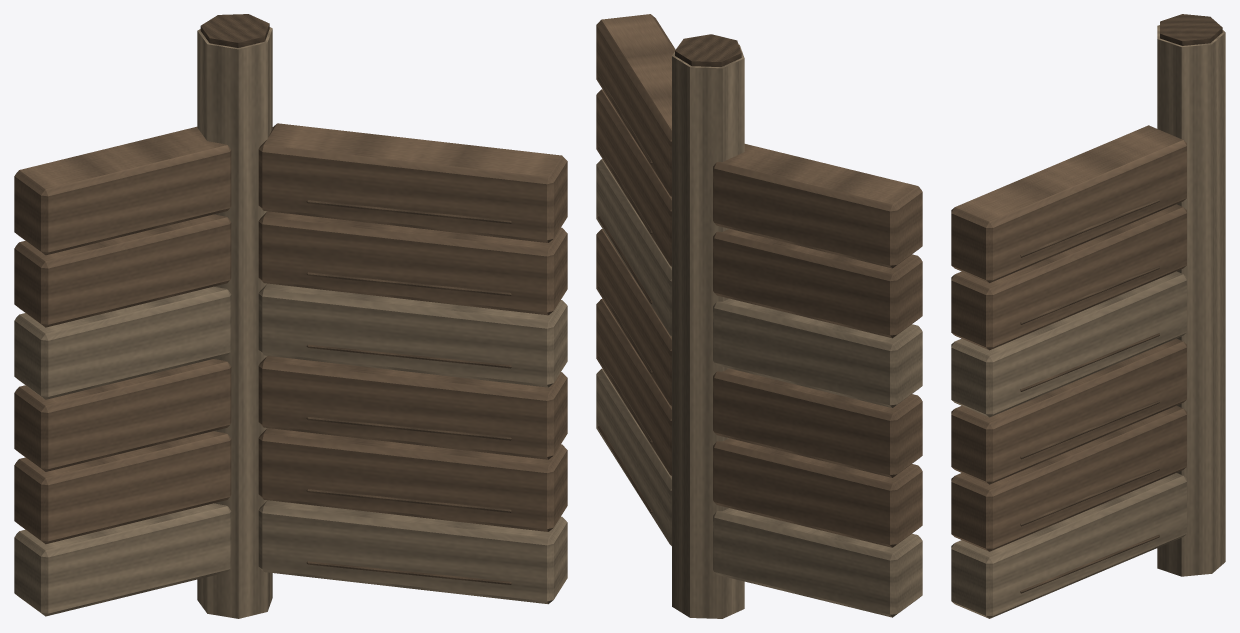
Rendered from wall_mask_66.glb.
3 renders of one model, left to right at view 1: azimuth 30°, elevation 25°; view 2: azimuth 150°, elevation 25°; view 3: azimuth 270°, elevation 25°, orthographic. The views are drawn at different scales.
Visible parts, largest first — view 1: Weathered timber, Timber worn edges, Dark endgrain; view 2: Weathered timber, Timber worn edges, Dark endgrain; view 3: Weathered timber, Timber worn edges, Dark endgrain.
Part boxes in pixels (box(x1,y1,x2,y2)): Weathered timber: box(14, 123, 567, 544); Timber worn edges: box(14, 27, 567, 618); Dark endgrain: box(200, 14, 511, 584); Weathered timber: box(596, 14, 922, 547); Timber worn edges: box(596, 44, 922, 618); Dark endgrain: box(597, 34, 741, 513); Weathered timber: box(951, 125, 1186, 551); Timber worn edges: box(951, 25, 1225, 618); Dark endgrain: box(1020, 14, 1222, 593).
Size of the model in its own units: 1.09 by 1.39 by 0.6484.
Materials: 3 (3 with a texture image).
